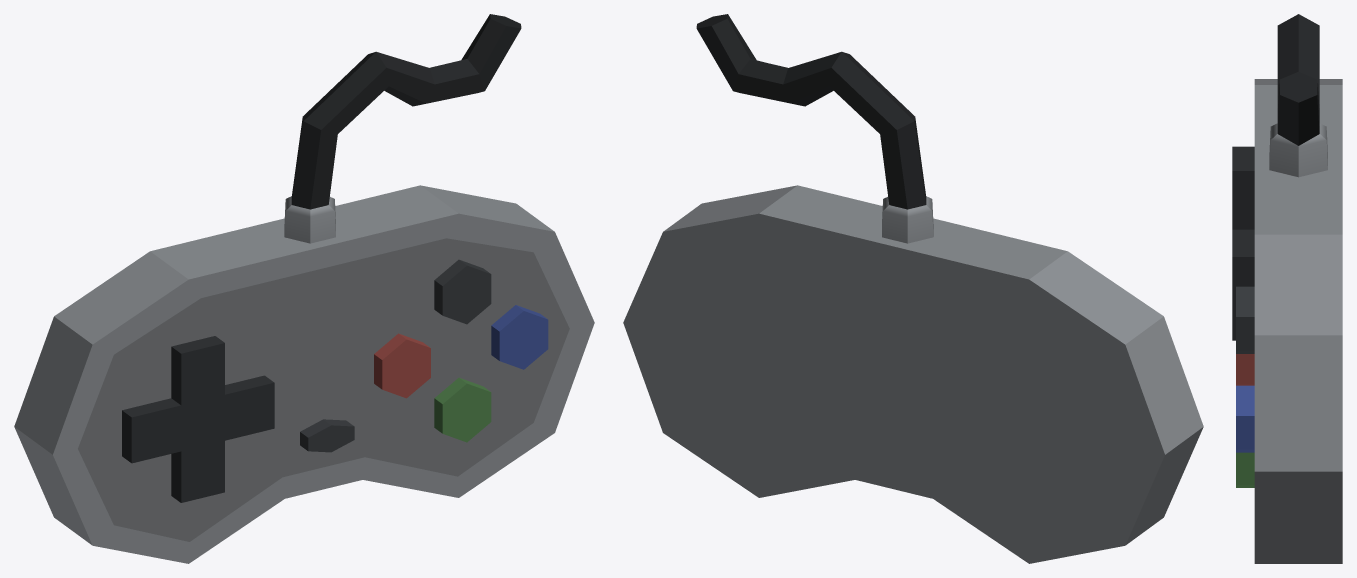
File: SM_Icon_Controller_01.fbx
The picture shows the model from 3 angles, left to right: view 1: azimuth 30°, elevation 25°; view 2: azimuth 150°, elevation 25°; view 3: azimuth 270°, elevation 25°; orthographic projection. The views are drawn at different scales.
Visible parts, largest first — view 1: SM_Icon_Controller_01; view 2: SM_Icon_Controller_01; view 3: SM_Icon_Controller_01.
Part boxes in pixels (left/top/right/bottom): SM_Icon_Controller_01: left=14, top=14, right=594, bottom=563; SM_Icon_Controller_01: left=623, top=14, right=1203, bottom=563; SM_Icon_Controller_01: left=1232, top=14, right=1342, bottom=563.
Bounding box in the file's own units: 56.62 × 45.2 × 8.77.
